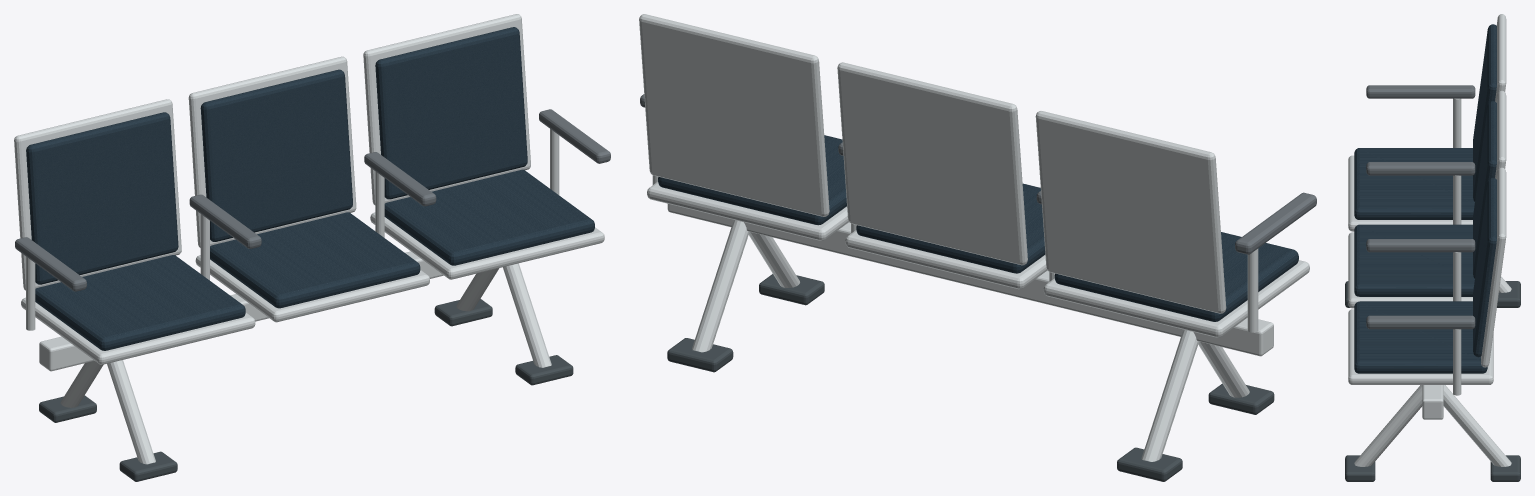
The model's file is terminal-seating.glb.
3 views of the same model, side by side, from view 1: azimuth 30°, elevation 25°; view 2: azimuth 150°, elevation 25°; view 3: azimuth 270°, elevation 25° (orthographic). The views are drawn at different scales.
Visible parts, largest first — view 1: BackPad2, BackPad0, BackPad1, SeatPad2, SeatPad0, SeatPad1, BackShell2, BackShell1, BackShell0, SeatShell2, SeatShell0, SeatShell1 (+14 smaller); view 2: BackShell1, BackShell0, BackShell2, SupportBeam, SeatPad0, SeatShell0, SeatShell1, SeatShell2, SeatPad1, SeatPad2, Leg0.68-0.24, Leg-0.68-0.24 (+8 smaller); view 3: SeatPad2, SeatPad1, SeatPad0, BackPad2, SeatShell2, BackShell2, BackPad0, BackPad1, ArmRest3, ArmRest0, ArmRest1, ArmRest2 (+14 smaller).
Part boxes in pixels (bbox=[...]): BackPad2: bbox=[375, 27, 527, 199]; BackPad0: bbox=[26, 112, 178, 284]; BackPad1: bbox=[200, 69, 352, 241]; SeatPad2: bbox=[384, 169, 594, 265]; SeatPad0: bbox=[35, 255, 245, 350]; SeatPad1: bbox=[210, 212, 420, 308]; BackShell2: bbox=[363, 14, 530, 205]; BackShell1: bbox=[188, 56, 356, 247]; BackShell0: bbox=[14, 99, 181, 290]; SeatShell2: bbox=[370, 212, 604, 279]; SeatShell0: bbox=[21, 297, 255, 364]; SeatShell1: bbox=[195, 255, 429, 322]; BackShell1: bbox=[837, 62, 1027, 265]; BackShell0: bbox=[1035, 111, 1226, 313]; BackShell2: bbox=[639, 14, 829, 216]; SupportBeam: bbox=[667, 204, 1273, 356]; SeatPad0: bbox=[1054, 232, 1298, 321]; SeatShell0: bbox=[1043, 260, 1309, 337]; SeatShell1: bbox=[845, 230, 1047, 289]; SeatShell2: bbox=[647, 181, 848, 240]; SeatPad1: bbox=[856, 183, 1045, 273]; SeatPad2: bbox=[658, 135, 846, 225]; Leg0.68-0.24: bbox=[692, 220, 749, 352]; Leg-0.68-0.24: bbox=[1141, 330, 1198, 461]; SeatPad2: bbox=[1354, 301, 1487, 373]; SeatPad1: bbox=[1354, 224, 1474, 296]; SeatPad0: bbox=[1354, 148, 1474, 219]; BackPad2: bbox=[1473, 178, 1496, 357]; SeatShell2: bbox=[1348, 309, 1493, 384]; BackShell2: bbox=[1481, 167, 1506, 367]; BackPad0: bbox=[1473, 24, 1496, 201]; BackPad1: bbox=[1473, 101, 1496, 278]; ArmRest3: bbox=[1366, 315, 1475, 329]; ArmRest0: bbox=[1366, 85, 1475, 98]; ArmRest1: bbox=[1366, 162, 1475, 175]; ArmRest2: bbox=[1366, 239, 1475, 252].
Bounding box in the file's own units: 1.85 × 0.9558 × 0.58.
Materials: 4 (1 with a texture image).
